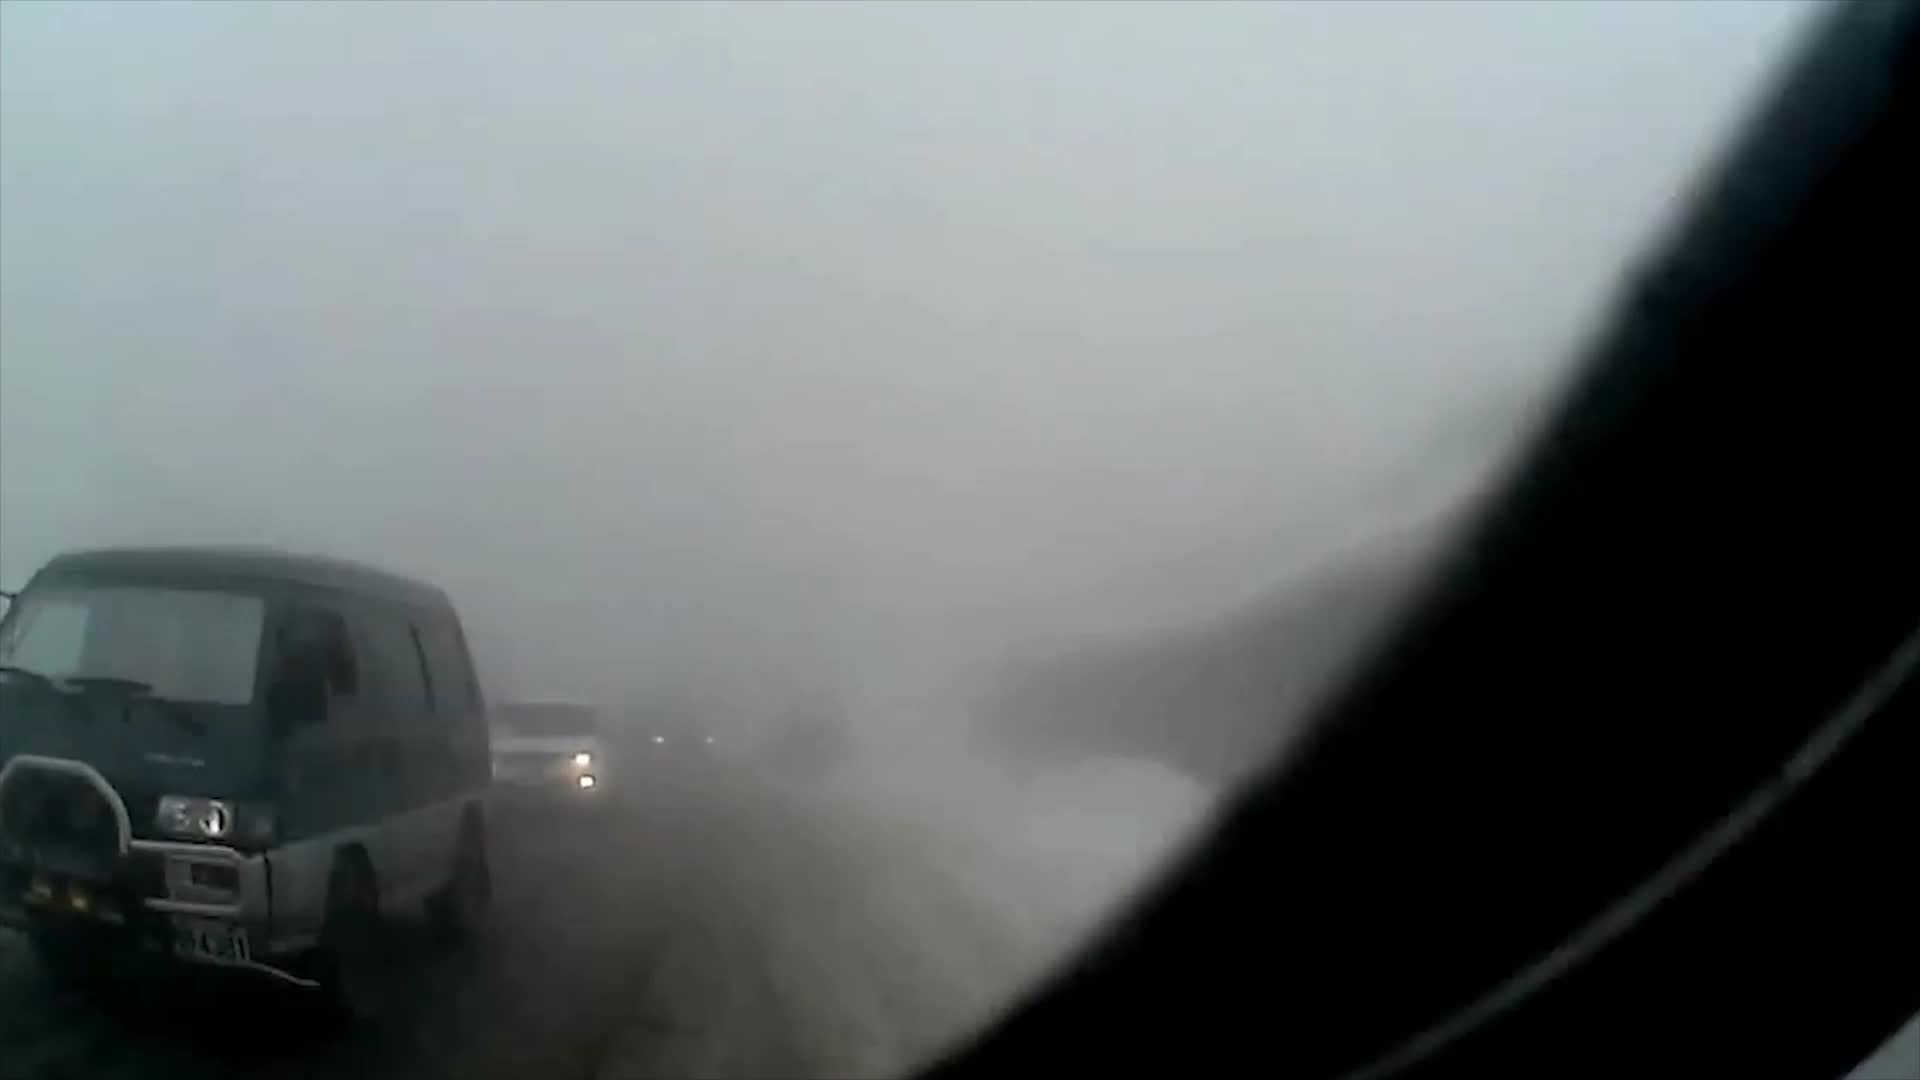vehicle: (0, 541, 502, 1035), (468, 700, 617, 823)
